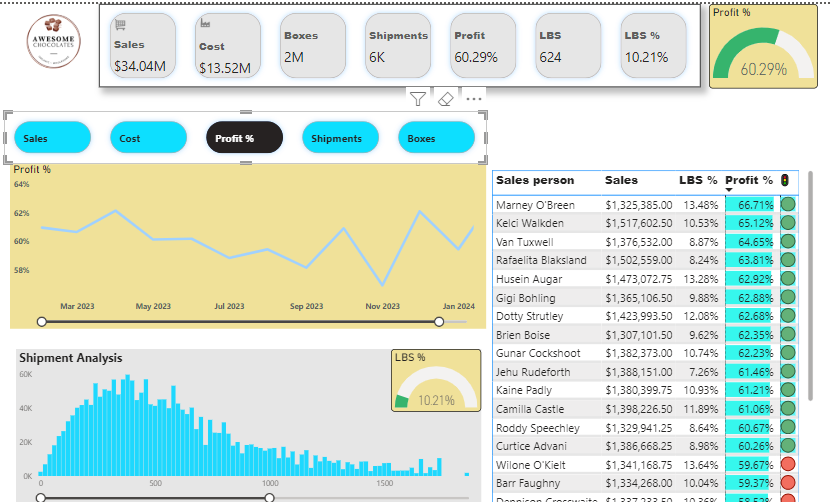

The dashboard page shown, as its layout file describes it:
{"tool":"powerbi","page":{"name":"Page 1","canvas":[1300,800],"ordinal":0},"visuals":[{"type":"cardVisual","fields":{"Data":["Measures (3).Total Sales","Measures (3).Total Cost","Measures (3).Total Boxes","Measures (3).Total Shipments","Measures (3).Profit %","Measures (3).LBS","Measures (3).LBS %"]},"box":[155.6,0,939.7,130.2],"z":0},{"type":"image","box":[0,10.8,170.3,94.6],"z":1000},{"type":"gauge","fields":{"Y":["Measures (3).Profit %"]},"box":[1109.5,0,170.3,132.4],"z":2000},{"type":"lineChart","fields":{"Y":["Measures (3).Profit %"],"Category":["calendar.Date.Variation.Date Hierarchy.Year","calendar.Date.Variation.Date Hierarchy.Quarter","calendar.Date.Variation.Date Hierarchy.Month","calendar.Date.Variation.Date Hierarchy.Day"]},"box":[17.5,249.2,744.4,258.7],"z":3000},{"type":"advancedSlicerVisual","fields":{"Values":["TIParams.TIParams"]},"box":[7.2,166.7,755.1,82.6],"z":4000},{"type":"columnChart","title":"Shipment Analysis","fields":{"Category":["shipments.Boxes (bins)"],"Y":["shipments.Boxes"]},"box":[27,539.7,727,244.4],"z":5000},{"type":"gauge","fields":{"Y":["Measures (3).LBS %"]},"box":[612.7,539.7,141.3,98.4],"z":6000},{"type":"tableEx","fields":{"Values":["people.Sales person","Measures (3).Total Sales","Measures (3).LBS %","Measures (3).Profit %","Measures (3).Target profit indicator"]},"box":[762.3,249.3,517.4,550.7],"z":7000}]}

Visuals, with their boxes on the page's 1300x800 design canvas (x1, y1, x2, y2). These are canvas units, not pixel positions in the 831x502 screenshot, which may show the page scaled, cropped or inside an application window:
cardVisual - Measures (3).Total Sales x Measures (3).Total Cost: 156:0:1095:130
image: 0:11:170:105
gauge - Measures (3).Profit %: 1110:0:1280:132
lineChart - Measures (3).Profit % x calendar.Date.Variation.Date Hierarchy.Year: 18:249:762:508
advancedSlicerVisual - TIParams.TIParams: 7:167:762:249
"Shipment Analysis" columnChart: 27:540:754:784
gauge - Measures (3).LBS %: 613:540:754:638
tableEx - people.Sales person x Measures (3).Total Sales: 762:249:1280:800
